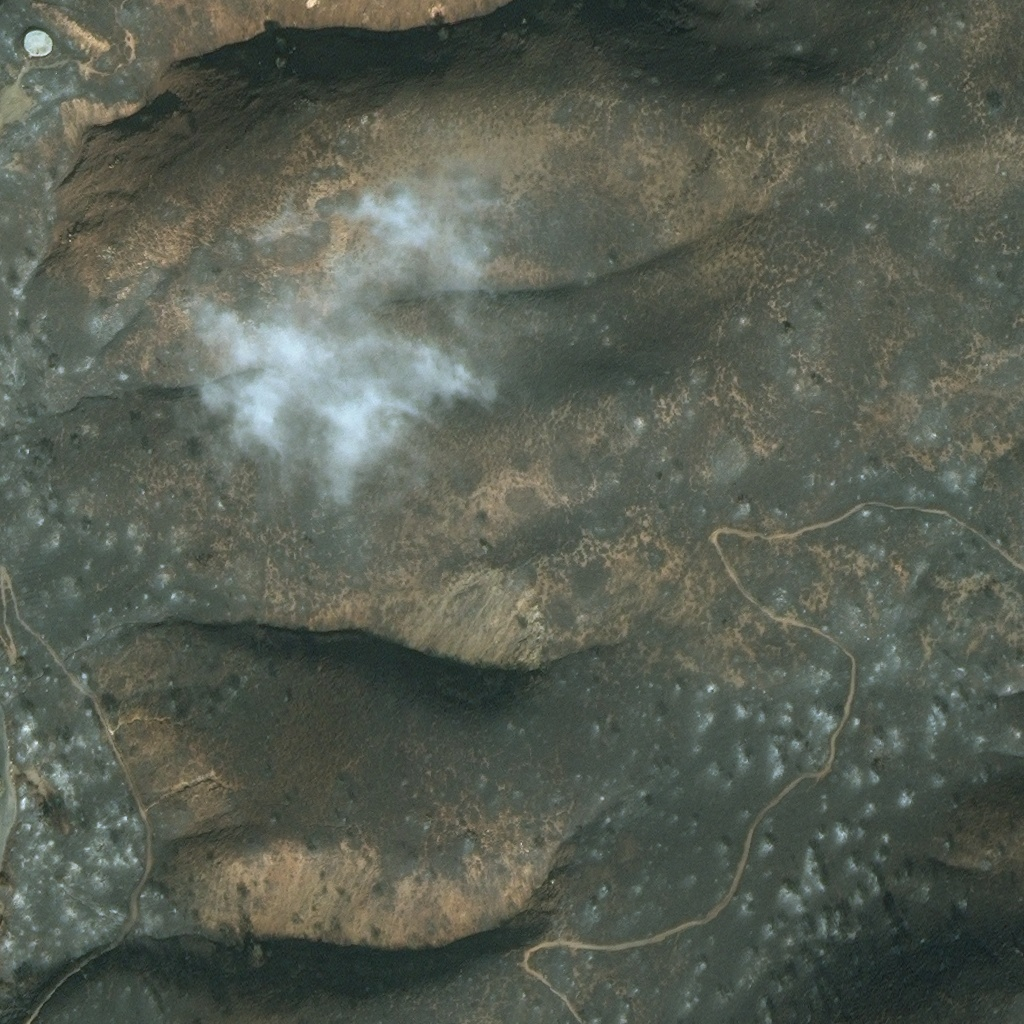0 no-damage: (22, 30, 51, 58)
